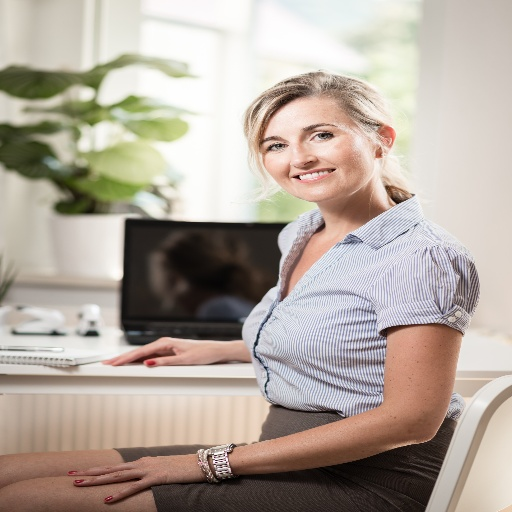hand: (75, 446, 236, 497), (100, 335, 235, 368)
